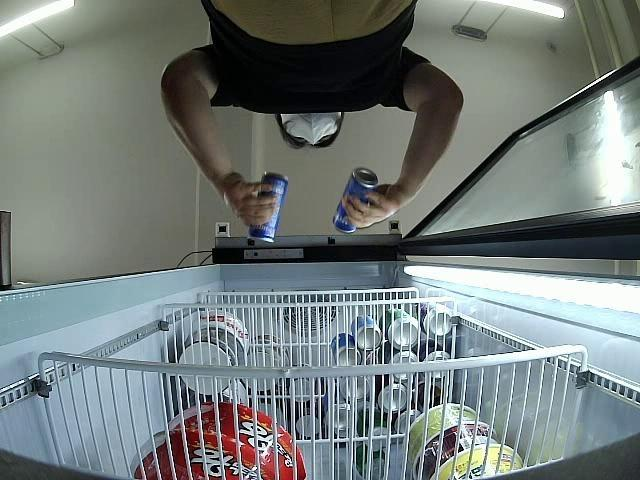16_hot6: (327, 166, 379, 232), (248, 176, 286, 244)
